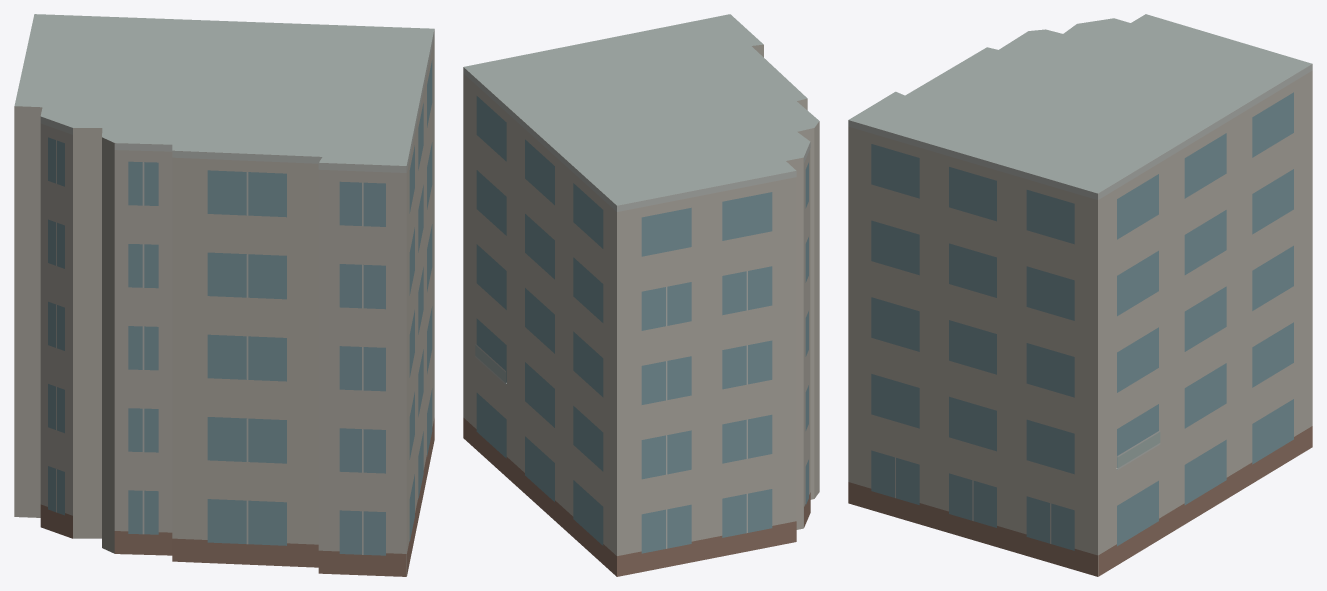
File: survey-upis-32724222.glb
The picture shows the model from 3 angles, left to right: view 1: azimuth 30°, elevation 25°; view 2: azimuth 150°, elevation 25°; view 3: azimuth 270°, elevation 25°; orthographic projection. The views are drawn at different scales.
Visible parts, largest first — view 1: survey-upis-32724222.tmp; view 2: survey-upis-32724222.tmp; view 3: survey-upis-32724222.tmp.
Part boxes in pixels (<box>): survey-upis-32724222.tmp: <box>14,14,434,576</box>; survey-upis-32724222.tmp: <box>463,14,819,576</box>; survey-upis-32724222.tmp: <box>848,14,1312,576</box>.
Bounding box in the file's own units: 14.38 × 14.3 × 15.71.
